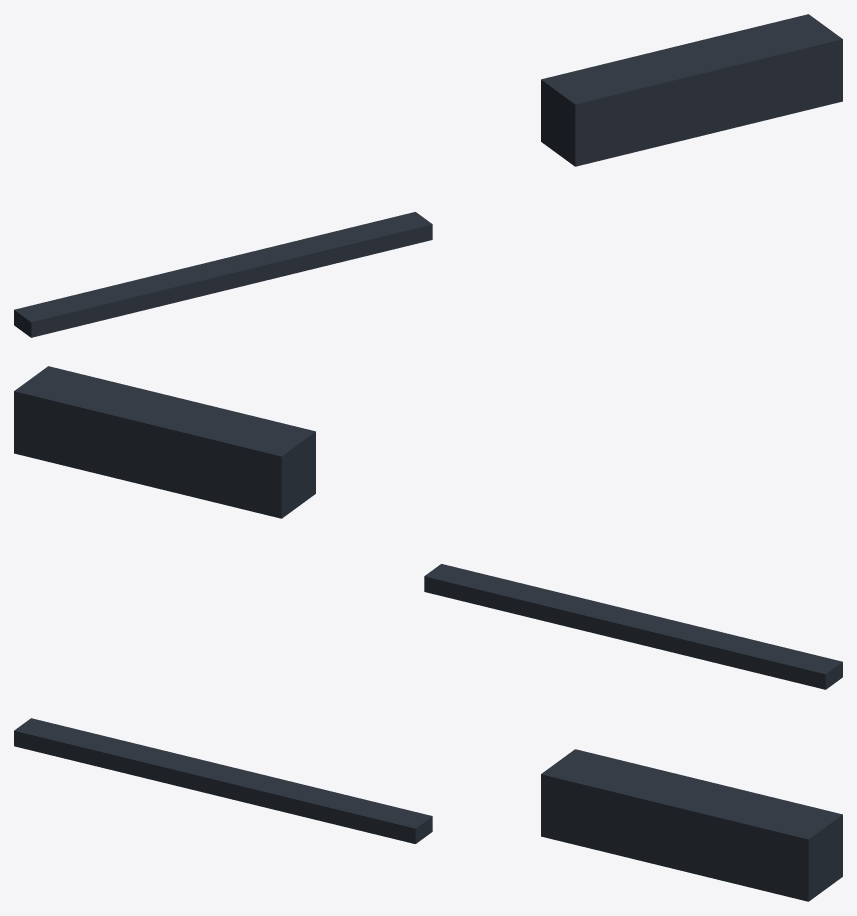
File: bolt_carrier_pump.glb
The picture shows the model from 3 angles, top to bottom: view 1: azimuth 30°, elevation 25°; view 2: azimuth 150°, elevation 25°; view 3: azimuth 330°, elevation 25°; orthographic projection.
Visible parts, largest first — view 1: bolt_carrier_pump:bolt-carrier; view 2: bolt_carrier_pump:bolt-carrier; view 3: bolt_carrier_pump:bolt-carrier.
Boxes of the visible parts, <box> form: bolt_carrier_pump:bolt-carrier: <box>14,14,842,337</box>; bolt_carrier_pump:bolt-carrier: <box>14,366,842,689</box>; bolt_carrier_pump:bolt-carrier: <box>14,718,842,901</box>.
Size of the model in its own units: 0.216 by 0.028 by 0.016.
